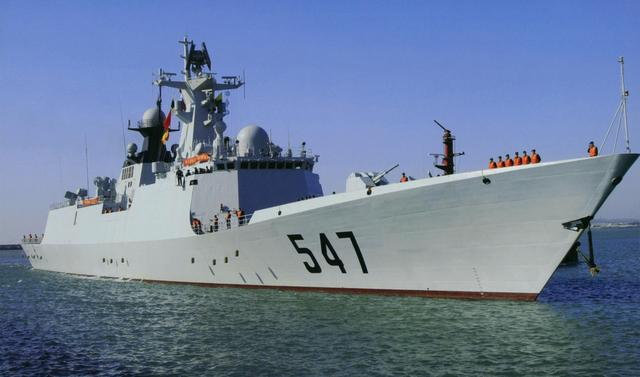warship: (6, 36, 640, 286)
